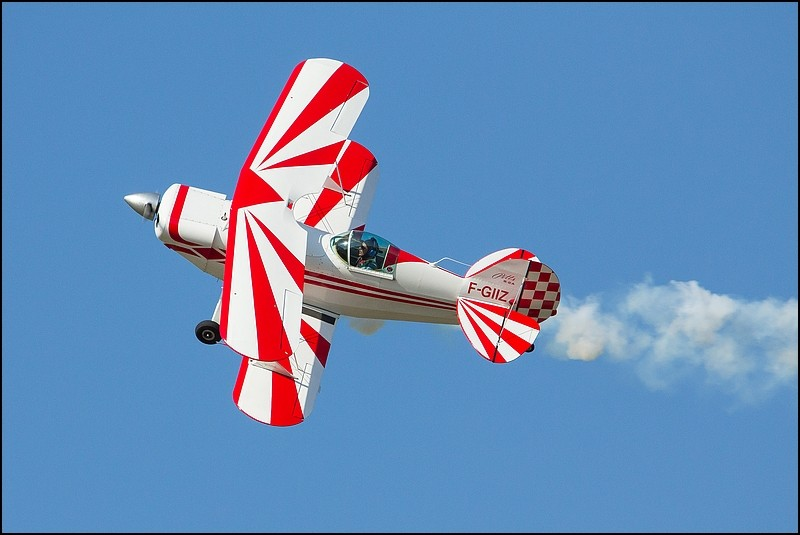Aeronef_de_loisir: (112, 50, 587, 434)
